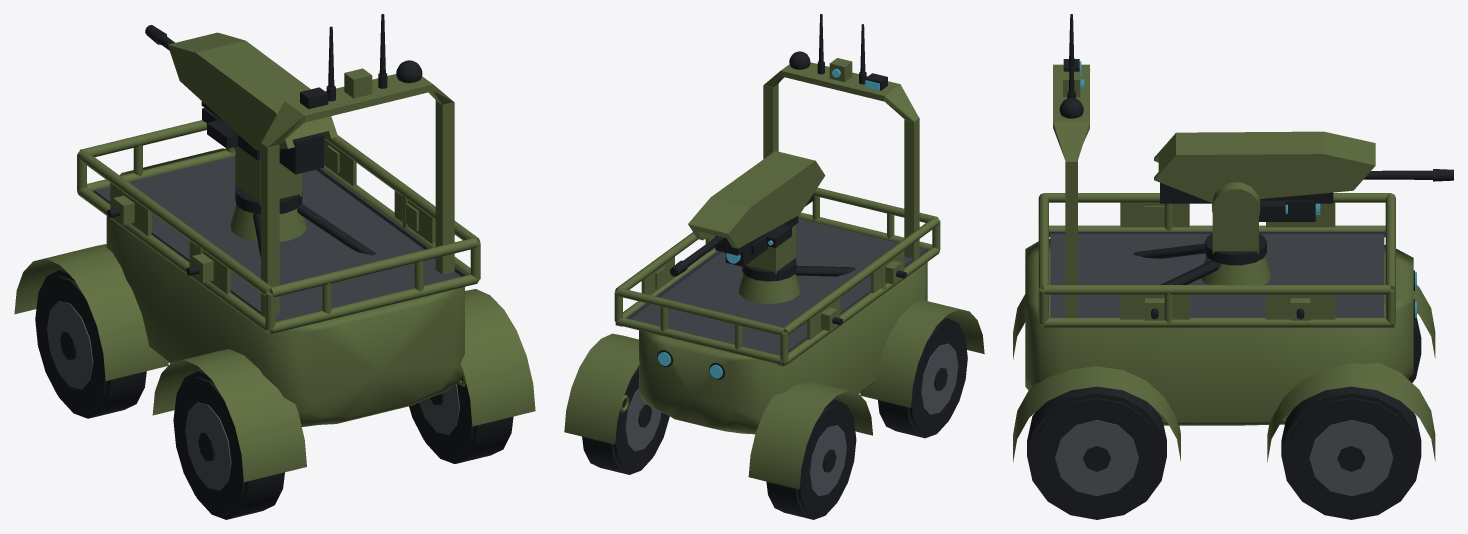
File: ugv-4.glb
The picture shows the model from 3 angles, left to right: view 1: azimuth 30°, elevation 25°; view 2: azimuth 150°, elevation 25°; view 3: azimuth 270°, elevation 25°; orthographic projection. The views are drawn at different scales.
Parts seen in each view (by area): view 1: ugv-hull, ugv-deck, ugv-cowl, ugv-mudguard-lb, ugv-mudguard-lf, ugv-mudguard-rb, ugv-wheel-lf-shoulder, ugv-wheel-lb-shoulder, ugv-mast-post, ugv-mast-post.001, ugv-rail-top-side-l, ugv-wheel-lf-rim (+26 smaller); view 2: ugv-hull, ugv-deck, ugv-cowl, ugv-mudguard-lf, ugv-mudguard-rf, ugv-mudguard-lb, ugv-wheel-lb-shoulder, ugv-wheel-lf-shoulder, ugv-mast-post.001, ugv-rail-top-side-l, ugv-wheel-rf-shoulder, ugv-wheel-lb-rim (+20 smaller); view 3: ugv-hull, ugv-deck, ugv-cowl, ugv-wheel-rb-shoulder, ugv-wheel-rf-shoulder, ugv-wheel-rf-rim, ugv-wheel-rb-rim, ugv-mudguard-rf, ugv-mudguard-rb, ugv-rail-top-side-r, ugv-wheel-rf-tyre, ugv-wheel-rb-tyre (+24 smaller).
Boxes of the visible parts, box(x1,y1,x2,y2) form: ugv-hull: box(106, 148, 464, 426); ugv-deck: box(94, 156, 460, 321); ugv-cowl: box(168, 32, 337, 150); ugv-mudguard-lb: box(152, 349, 306, 482); ugv-mudguard-lf: box(14, 244, 168, 380); ugv-mudguard-rb: box(460, 289, 535, 426); ugv-wheel-lf-shoulder: box(35, 275, 107, 414); ugv-wheel-lb-shoulder: box(173, 376, 245, 515); ugv-mast-post: box(435, 100, 454, 274); ugv-mast-post.001: box(261, 143, 279, 316); ugv-rail-top-side-l: box(77, 150, 271, 295); ugv-wheel-lf-rim: box(47, 301, 93, 389); ugv-hull: box(639, 214, 927, 434); ugv-deck: box(630, 218, 925, 355); ugv-cowl: box(688, 151, 825, 248); ugv-mudguard-lf: box(748, 381, 872, 489); ugv-mudguard-rf: box(564, 333, 639, 444); ugv-mudguard-lb: box(860, 300, 984, 407); ugv-wheel-lb-shoulder: box(909, 323, 967, 434); ugv-wheel-lf-shoulder: box(798, 404, 856, 516); ugv-mast-post.001: box(904, 118, 919, 259); ugv-rail-top-side-l: box(783, 217, 939, 334); ugv-wheel-rf-shoulder: box(613, 366, 669, 471); ugv-wheel-lb-rim: box(921, 343, 958, 414); ugv-hull: box(1025, 238, 1413, 425); ugv-deck: box(1050, 234, 1384, 317); ugv-cowl: box(1154, 131, 1375, 202); ugv-wheel-rb-shoulder: box(1032, 397, 1161, 516); ugv-wheel-rf-shoulder: box(1286, 397, 1416, 516); ugv-wheel-rf-rim: box(1309, 420, 1393, 496); ugv-wheel-rb-rim: box(1055, 420, 1138, 496); ugv-mudguard-rf: box(1267, 362, 1435, 462); ugv-mudguard-rb: box(1013, 366, 1180, 462); ugv-rail-top-side-r: box(1044, 285, 1390, 294); ugv-wheel-rf-tyre: box(1281, 386, 1421, 519); ugv-wheel-rb-tyre: box(1027, 386, 1166, 519).
Size of the model in its own units: 1.34 by 2.07 by 1.91.
